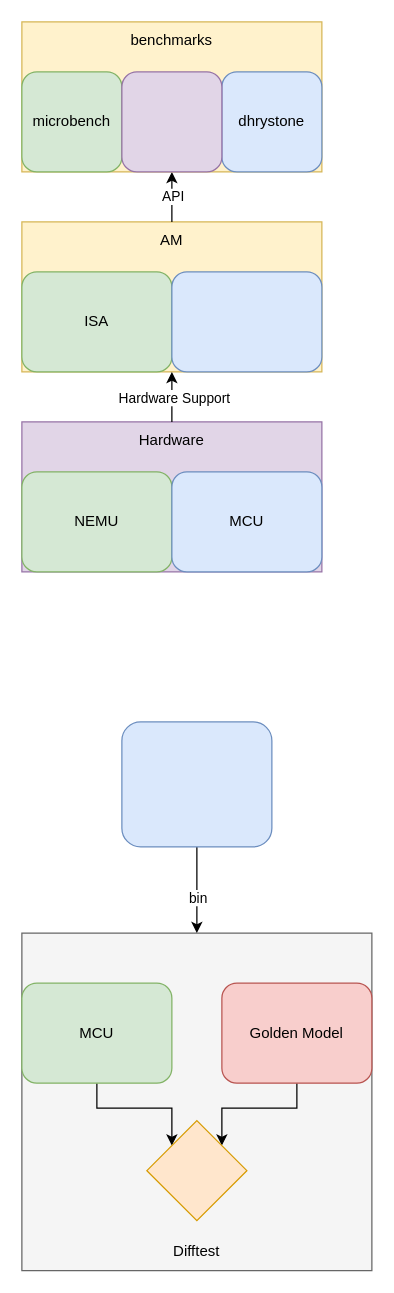
The diagram is 394 pixels wide and 1293 high, and some of its shapes have lost their labels. The shapes that lost their labels are listed below. From the top down, each one's centre as x and y in pixels, then its label:
the point at 171,121: coremark
the point at 246,321: Klib
the point at 196,784: riscvtests & riscv-gcc
the point at 196,1170: Compare
